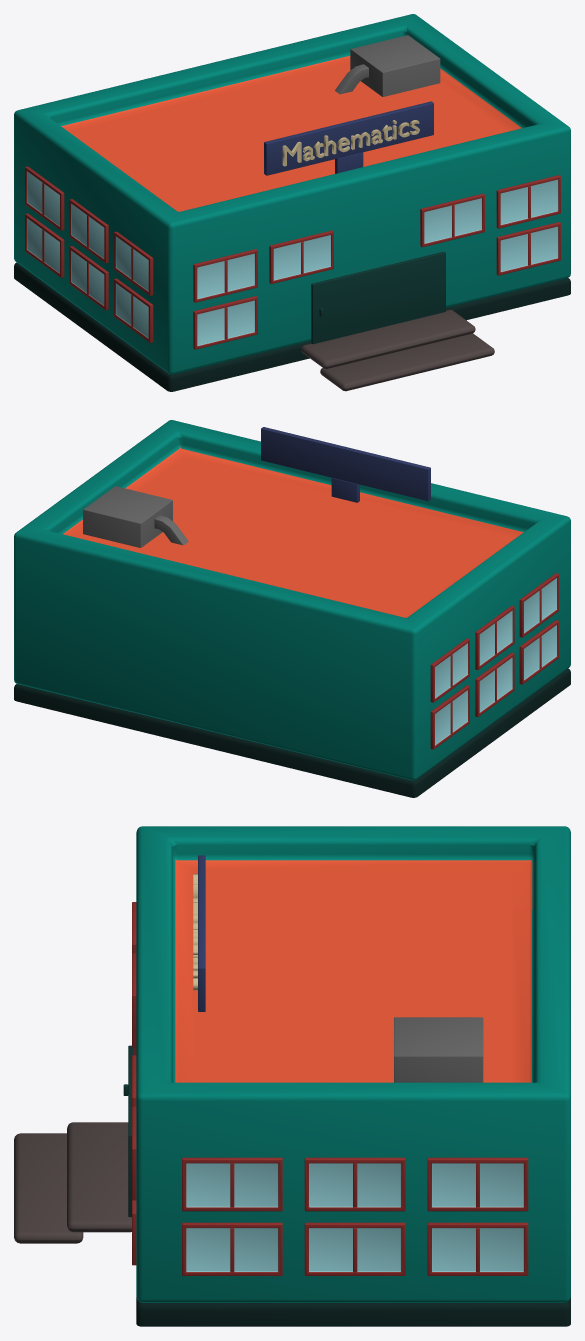
File: Predio_matematica_nivel_02.fbx
3 views of the same model, one above another, from view 1: azimuth 30°, elevation 25°; view 2: azimuth 150°, elevation 25°; view 3: azimuth 270°, elevation 25° (orthographic). The views are drawn at different scales.
Visible parts, largest first — view 1: Predio_matematica_nivel_02, Janelas_predio_02, Texto_Mathematics_nivel_02; view 2: Predio_matematica_nivel_02, Janelas_predio_02; view 3: Predio_matematica_nivel_02, Janelas_predio_02.
Part boxes in pixels (x1=…): Predio_matematica_nivel_02: x1=14, y1=14, x2=570, y2=391; Janelas_predio_02: x1=25, y1=35, x2=560, y2=349; Texto_Mathematics_nivel_02: x1=282, y1=120, x2=419, y2=166; Predio_matematica_nivel_02: x1=14, y1=420, x2=570, y2=797; Janelas_predio_02: x1=83, y1=427, x2=558, y2=749; Predio_matematica_nivel_02: x1=14, y1=826, x2=570, y2=1326; Janelas_predio_02: x1=123, y1=855, x2=528, y2=1275.
Bounding box in the file's own units: 1505 × 714 × 1285.
